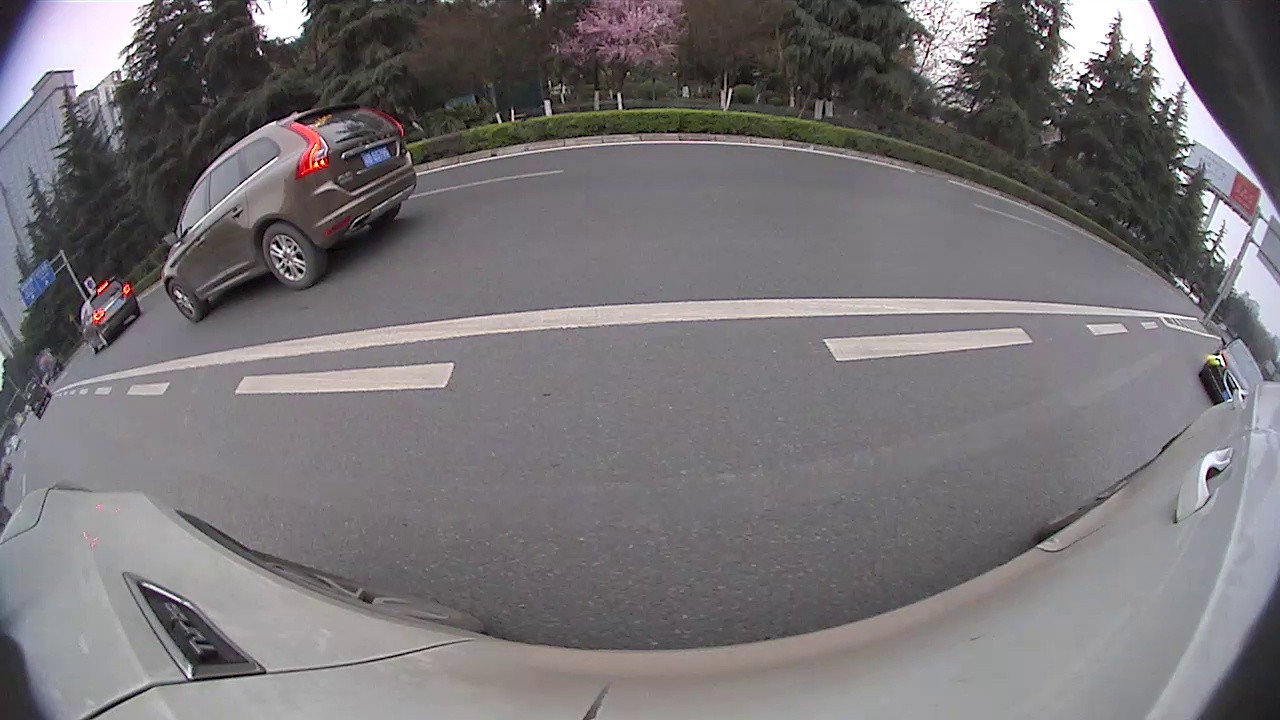bus: (771, 1, 1279, 440)
car: (558, 106, 773, 256), (302, 153, 503, 261), (522, 159, 561, 197)
front: (776, 180, 801, 226), (489, 189, 503, 220)
rear: (1013, 253, 1119, 374), (418, 203, 445, 250)
